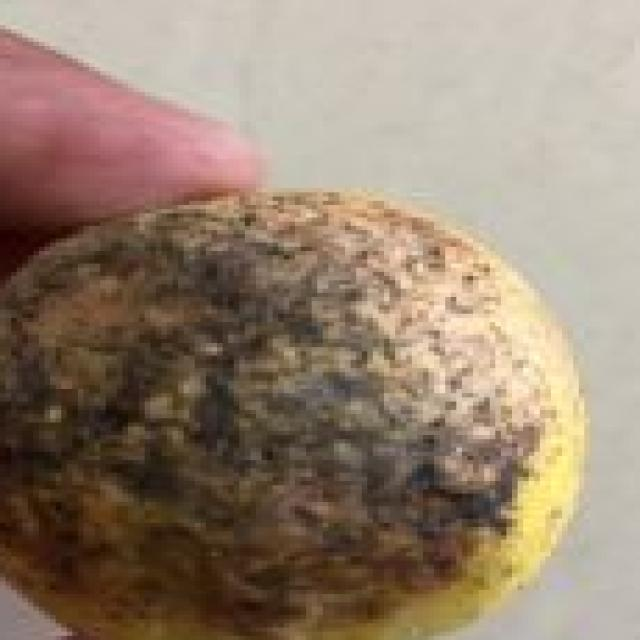Bad_Lime-0-1-day: (0, 192, 590, 640)
